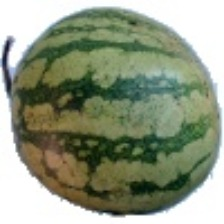watermelon: (48, 8, 212, 191)
